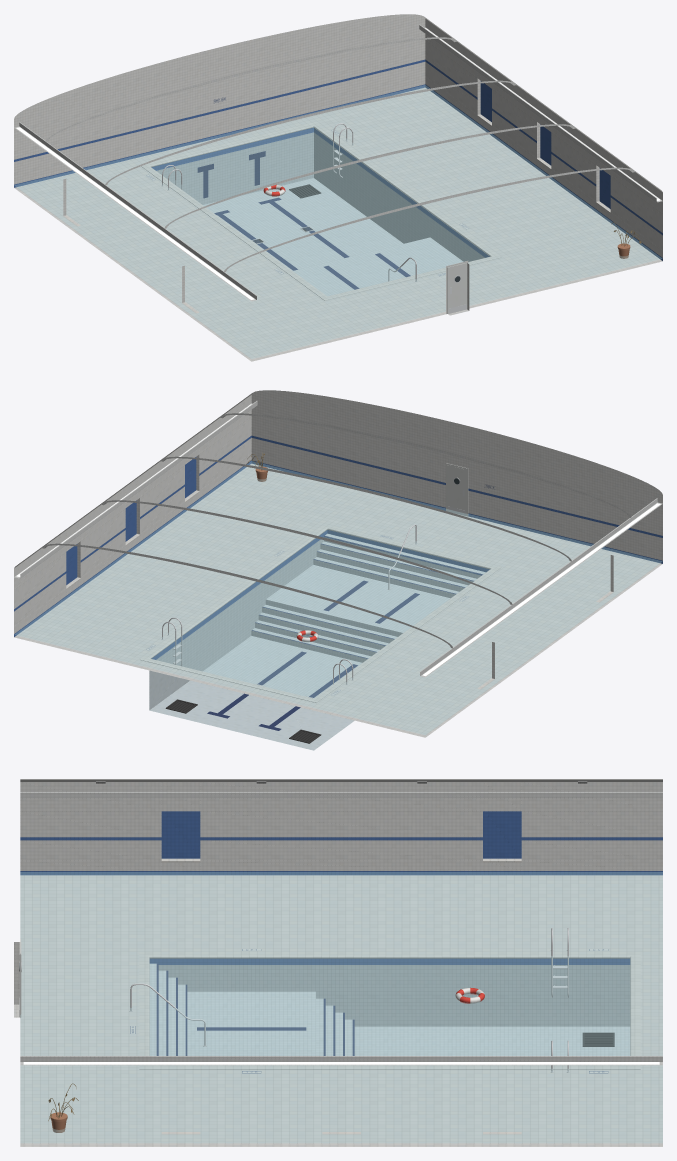
File: sub_pool_05.glb
The picture shows the model from 3 angles, top to bottom: view 1: azimuth 30°, elevation 25°; view 2: azimuth 150°, elevation 25°; view 3: azimuth 270°, elevation 25°; orthographic projection. The views are drawn at different scales.
Visible parts, largest first — view 1: Pool_Water, Tile_Deck, Tile_Wall, Tile_Pool, Tile_Trim, Tile_Accent, Tile_Lip, Tile_Lane, Lamp_Emit, DoorLeaf_atrium, Chrome; view 2: Pool_Water, Tile_Deck, Tile_Wall, Tile_Pool, Tile_Trim, Tile_Accent, Tile_Lip, Tile_Lane, Lamp_Emit, DoorLeaf_atrium, Chrome, Grate_Iron; view 3: Pool_Water, Tile_Deck, Tile_Wall, Tile_Pool, Tile_Accent, Tile_Trim, Tile_Lip, Ceiling_Paint, Lamp_Emit, Tile_Lane, Chrome.
Boxes of the visible parts, x1,y1,x2,y2 form: Pool_Water: [15, 85, 662, 358]; Tile_Deck: [14, 87, 662, 361]; Tile_Wall: [14, 14, 662, 310]; Tile_Pool: [156, 132, 484, 296]; Tile_Trim: [14, 24, 662, 301]; Tile_Accent: [14, 59, 662, 260]; Tile_Lip: [63, 114, 610, 313]; Tile_Lane: [197, 151, 410, 289]; Lamp_Emit: [16, 28, 660, 299]; DoorLeaf_atrium: [447, 263, 467, 313]; Chrome: [161, 123, 417, 281]; Pool_Water: [15, 461, 661, 734]; Tile_Deck: [14, 463, 662, 737]; Tile_Wall: [14, 390, 662, 678]; Tile_Pool: [149, 533, 485, 750]; Tile_Trim: [14, 401, 662, 677]; Tile_Accent: [14, 435, 662, 659]; Tile_Lip: [66, 490, 613, 702]; Tile_Lane: [207, 535, 482, 730]; Lamp_Emit: [16, 404, 660, 676]; DoorLeaf_atrium: [447, 465, 466, 516]; Chrome: [161, 524, 417, 698]; Grate_Iron: [165, 699, 321, 743]; Pool_Water: [20, 872, 662, 1142]; Tile_Deck: [14, 875, 662, 1146]; Tile_Wall: [14, 782, 662, 1004]; Tile_Pool: [149, 963, 630, 1055]; Tile_Accent: [20, 811, 662, 964]; Tile_Trim: [20, 781, 662, 1065]; Tile_Lip: [139, 858, 640, 1134]; Ceiling_Paint: [20, 779, 662, 781]; Lamp_Emit: [23, 1062, 659, 1064]; Tile_Lane: [156, 963, 354, 1055]; Chrome: [129, 928, 569, 1072].
Size of the model in its own units: 20.3 by 6.6 by 20.2.
19 materials, 10 textured.
